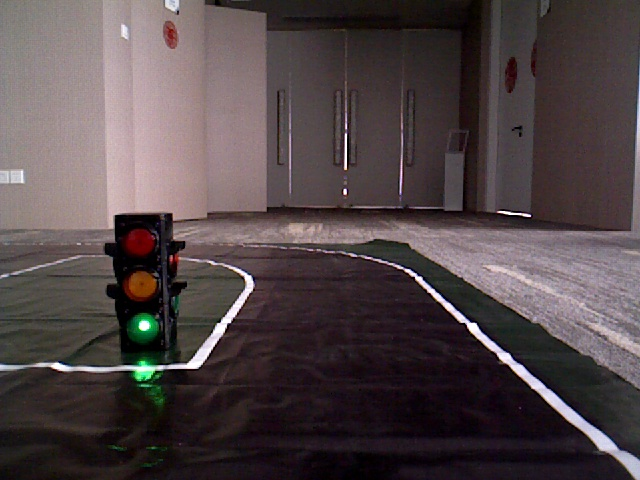green: (114, 218, 168, 348)
